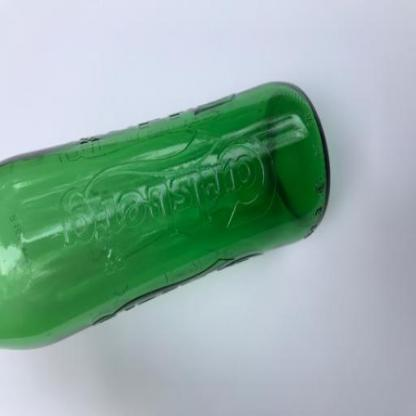trash: (2, 82, 333, 356)
